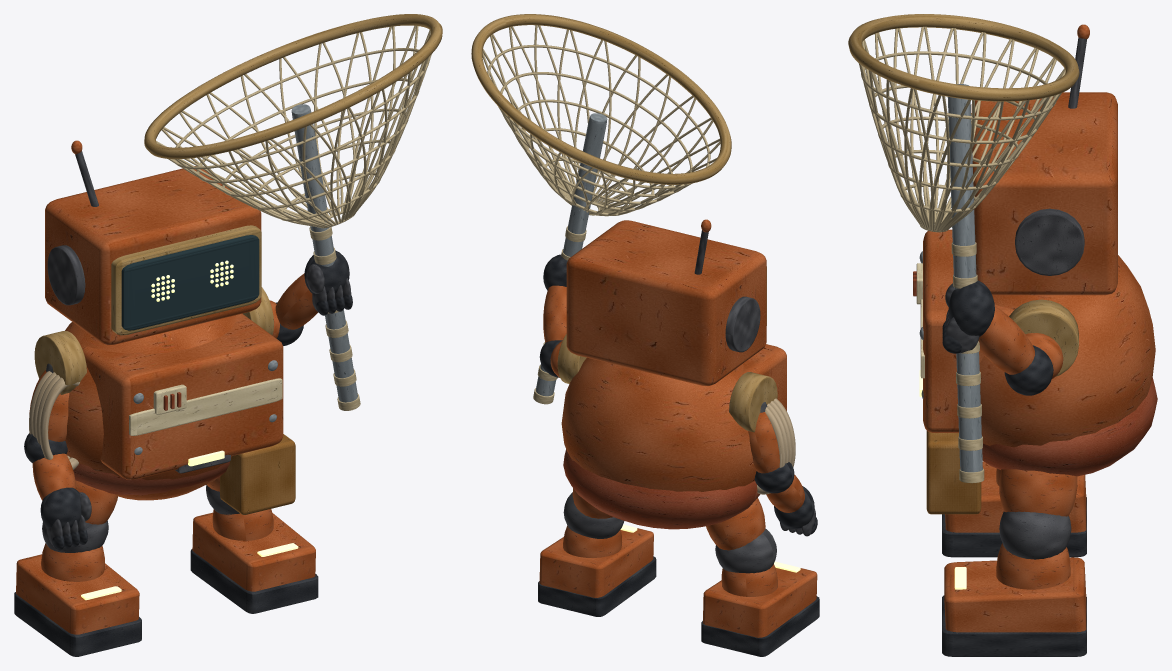
Rendered from pip.glb.
3 renders of one model, left to right at view 1: azimuth 30°, elevation 25°; view 2: azimuth 150°, elevation 25°; view 3: azimuth 270°, elevation 25°, orthographic. The views are drawn at different scales.
Parts seen in each view (by area): view 1: Fitted hardware of Pip | identity, Fitted hardware of CastHead, Fitted hardware of Net hinge, Fitted hardware of PivotLegL, Fitted hardware of PivotLegR, Fitted hardware of PivotArmL, Fitted hardware of PivotArmR, Fitted hardware of NetPole; view 2: Fitted hardware of Pip | identity, Fitted hardware of CastHead, Fitted hardware of Net hinge, Fitted hardware of PivotLegL, Fitted hardware of PivotLegR, Fitted hardware of PivotArmL, Fitted hardware of PivotArmR, Fitted hardware of NetPole; view 3: Fitted hardware of Pip | identity, Fitted hardware of CastHead, Fitted hardware of Net hinge, Fitted hardware of PivotLegR, Fitted hardware of PivotArmR, Fitted hardware of NetPole, Fitted hardware of PivotLegL.
Part boxes in pixels (x1,y1,x2,y2): Fitted hardware of Pip | identity: (29,313,295,514); Fitted hardware of CastHead: (45,140,261,344); Fitted hardware of Net hinge: (144,14,442,228); Fitted hardware of PivotLegL: (14,480,141,656); Fitted hardware of PivotLegR: (190,477,318,613); Fitted hardware of PivotArmL: (24,331,91,550); Fitted hardware of PivotArmR: (243,250,352,345); Fitted hardware of NetPole: (291,104,360,410); Fitted hardware of Pip | identity: (561,344,795,529); Fitted hardware of CastHead: (566,219,766,385); Fitted hardware of Net hinge: (471,14,731,216); Fitted hardware of PivotLegL: (701,498,819,656); Fitted hardware of PivotLegR: (538,488,656,616); Fitted hardware of PivotArmL: (729,372,817,536); Fitted hardware of PivotArmR: (539,254,586,383); Fitted hardware of NetPole: (533,113,607,404); Fitted hardware of Pip | identity: (913,229,1157,514); Fitted hardware of CastHead: (971,24,1117,295); Fitted hardware of Net hinge: (848,14,1079,232); Fitted hardware of PivotLegR: (942,469,1086,656); Fitted hardware of PivotArmR: (942,280,1078,395); Fitted hardware of NetPole: (947,84,984,483); Fitted hardware of PivotLegL: (942,461,1086,557).
Size of the model in its own units: 1.01 by 1.42 by 0.6224.
Materials: 12 (10 with a texture image).
